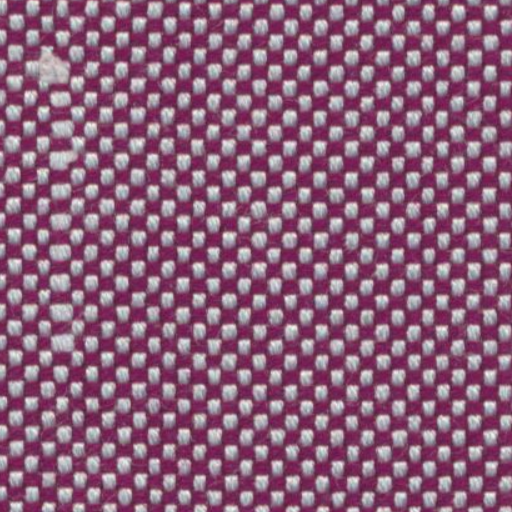DaiSha: (24, 48, 96, 391)
